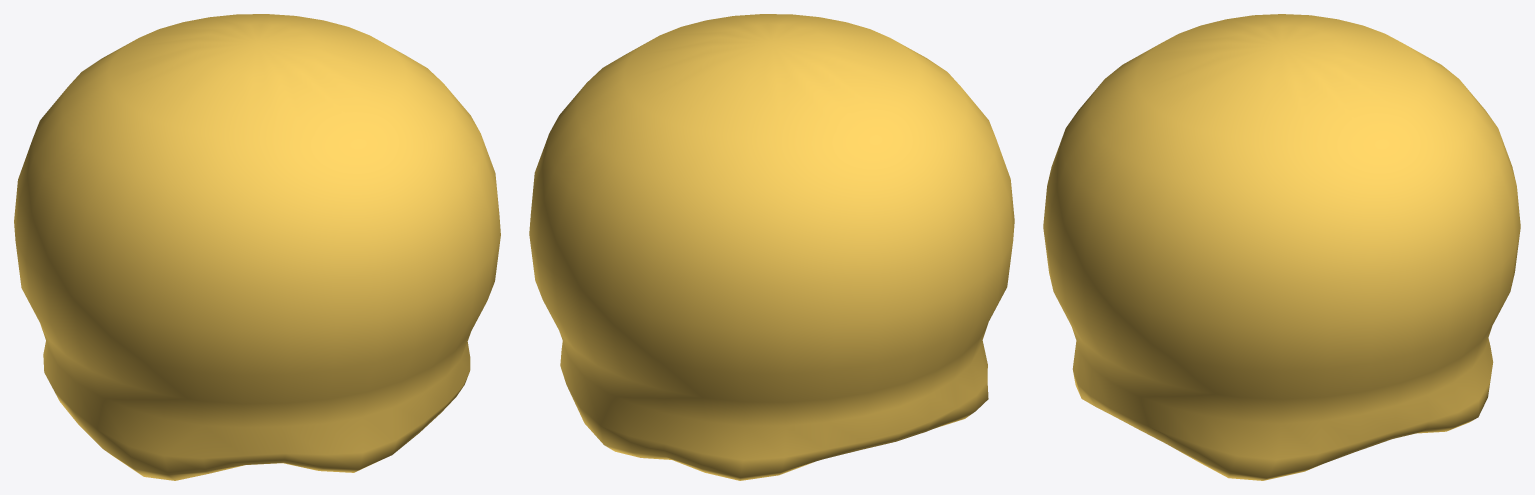
The model's file is Ice Cream Melted Yellow.fbx.
3 views of the same model, side by side, from view 1: azimuth 30°, elevation 25°; view 2: azimuth 150°, elevation 25°; view 3: azimuth 270°, elevation 25° (orthographic). The views are drawn at different scales.
Visible parts, largest first — view 1: Ice Cream Melted Yellow; view 2: Ice Cream Melted Yellow; view 3: Ice Cream Melted Yellow.
Boxes of the visible parts, left/top/right/bottom form: Ice Cream Melted Yellow: left=14, top=14, right=500, bottom=480; Ice Cream Melted Yellow: left=529, top=14, right=1014, bottom=480; Ice Cream Melted Yellow: left=1043, top=14, right=1520, bottom=480.
Bounding box in the file's own units: 0.4884 × 0.3979 × 0.4884.
